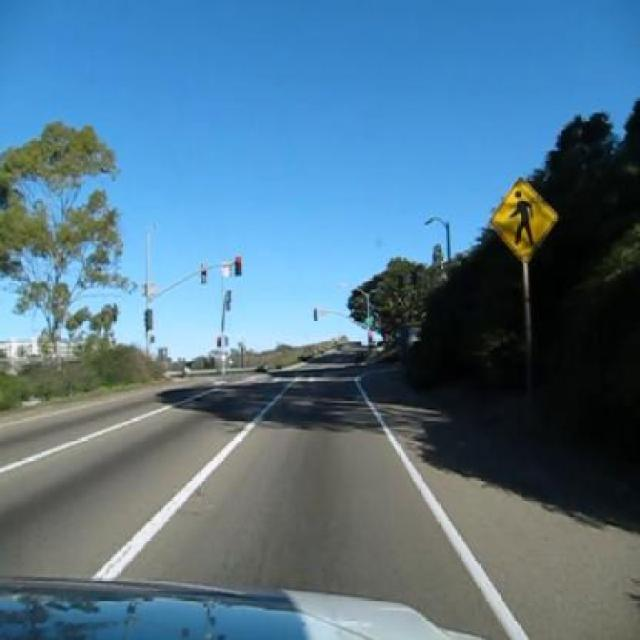pedestrianCrossing: (488, 175, 558, 263)
